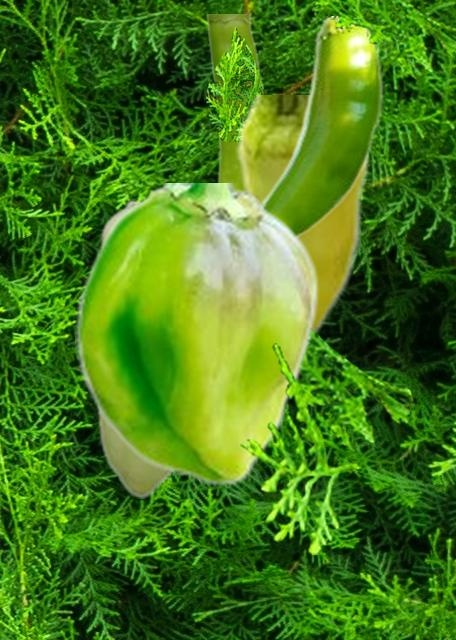green_chili: (75, 183, 319, 486), (229, 95, 369, 336), (260, 20, 383, 239), (85, 199, 174, 497), (205, 14, 262, 188)
